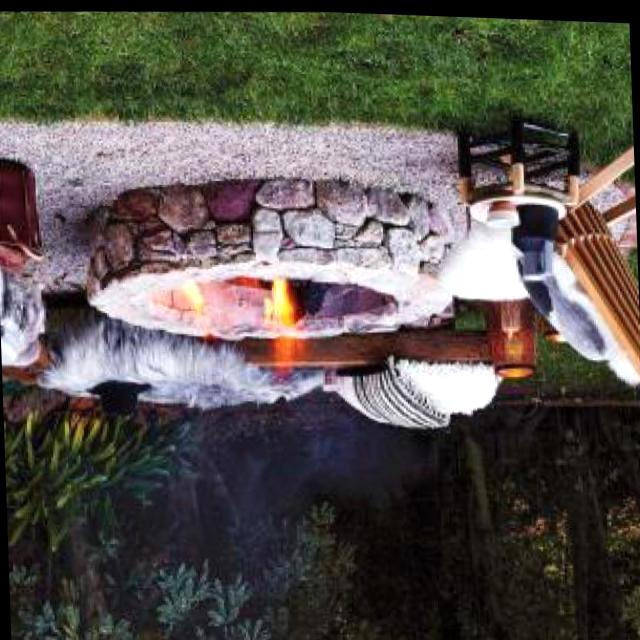fire: (256, 274, 306, 371), (176, 279, 216, 337)
